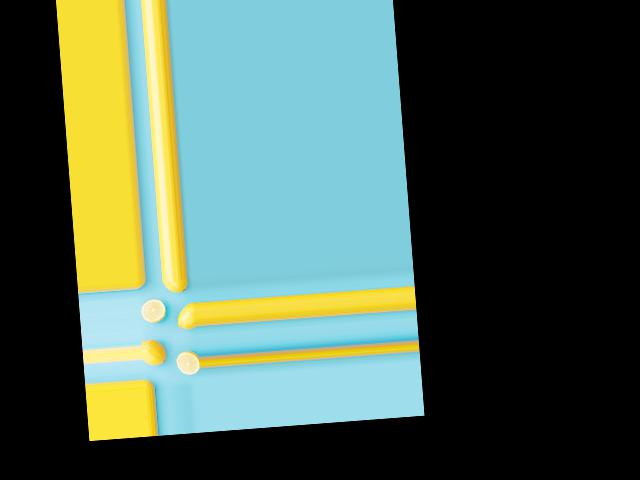lemon: (160, 277, 186, 295)
